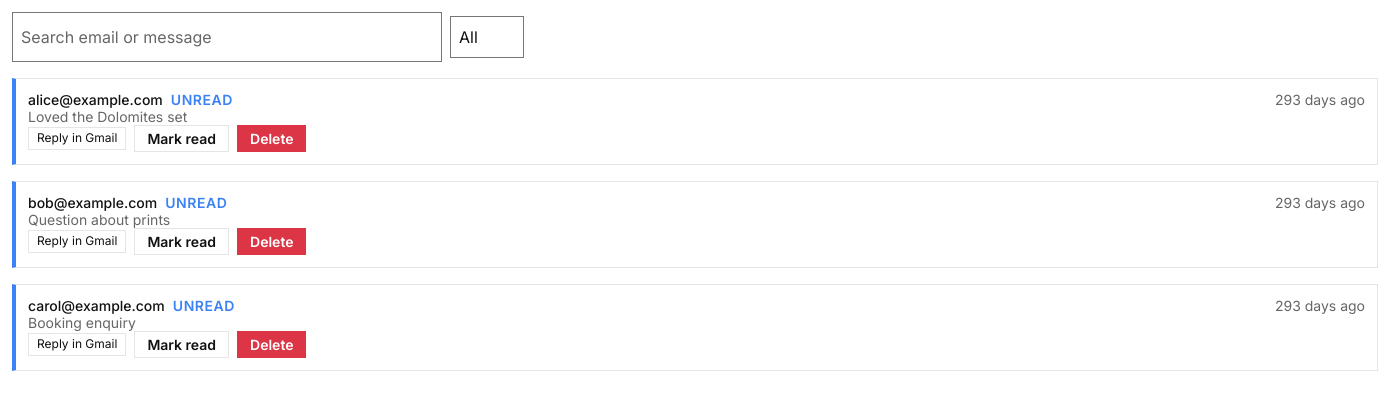
CommentsList — server-side search › drops a stale response so a slow early keystroke cannot overwrite a later one
Type "slow" into the search field named "search messages".
click(227, 37); type("slow")  # box [12, 12, 442, 62]
Wait 300 ms
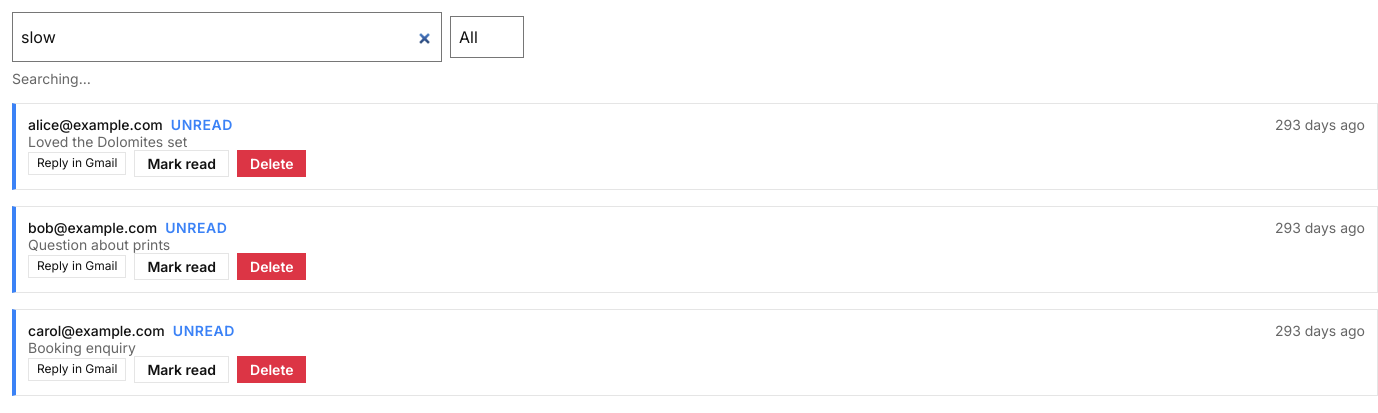
Replace the text in the search field named "search messages" with "fast" at (227, 37), box [12, 12, 442, 62]
Wait 300 ms
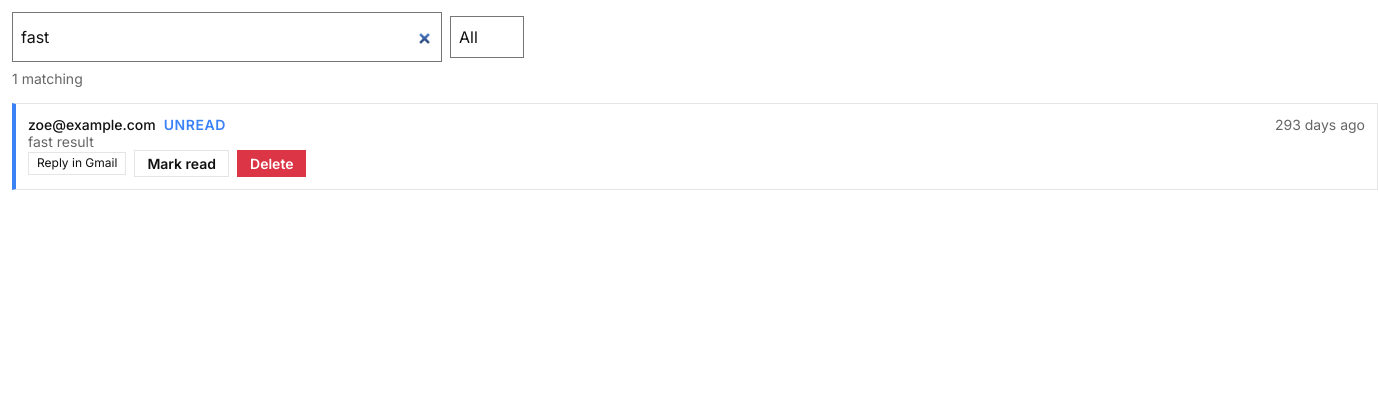
Expected: the text "fast result" is shown, [28, 133, 94, 150]
